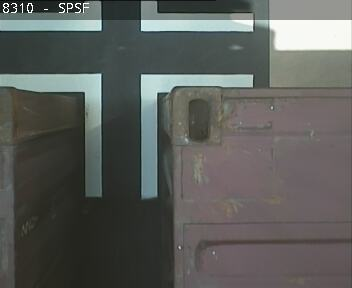groundmarker_1: (1, 73, 251, 197)
